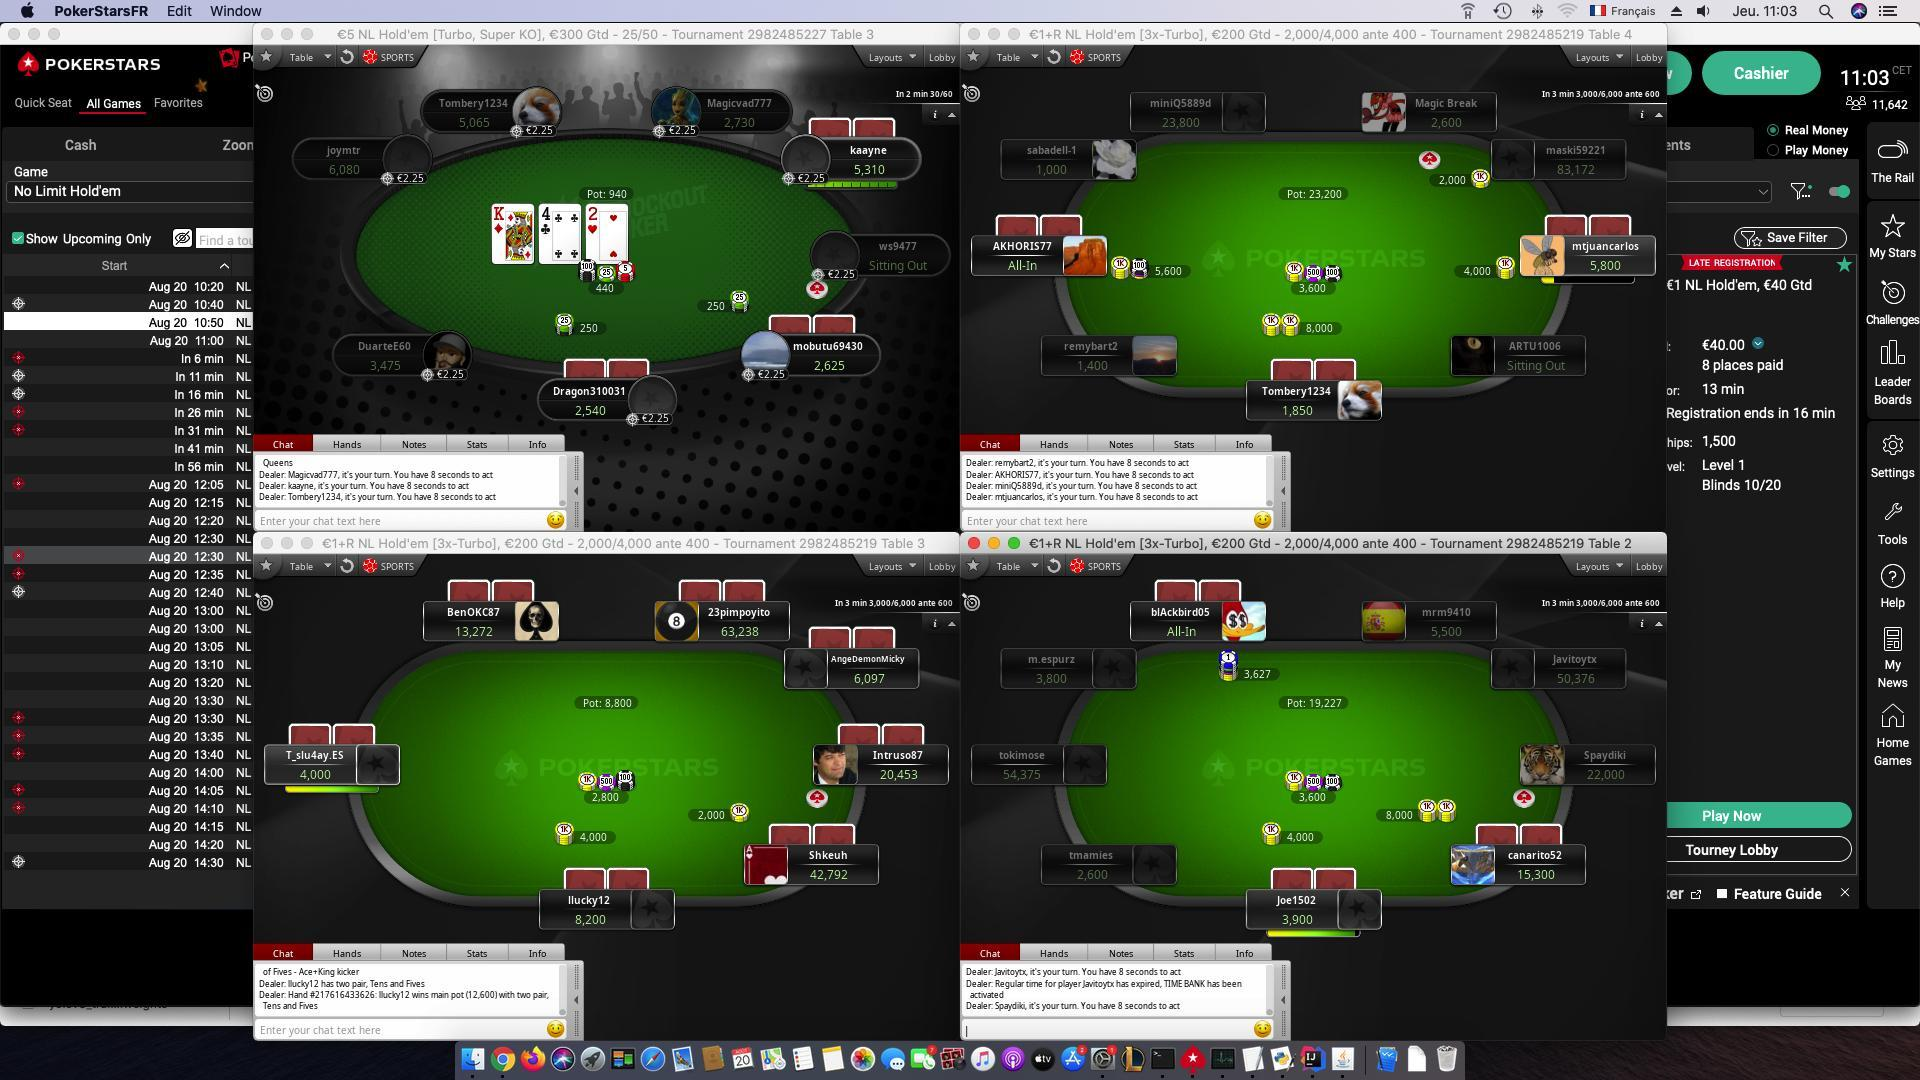2H: (582, 200, 607, 237)
4C: (534, 200, 556, 240)
KD: (488, 202, 506, 239)
